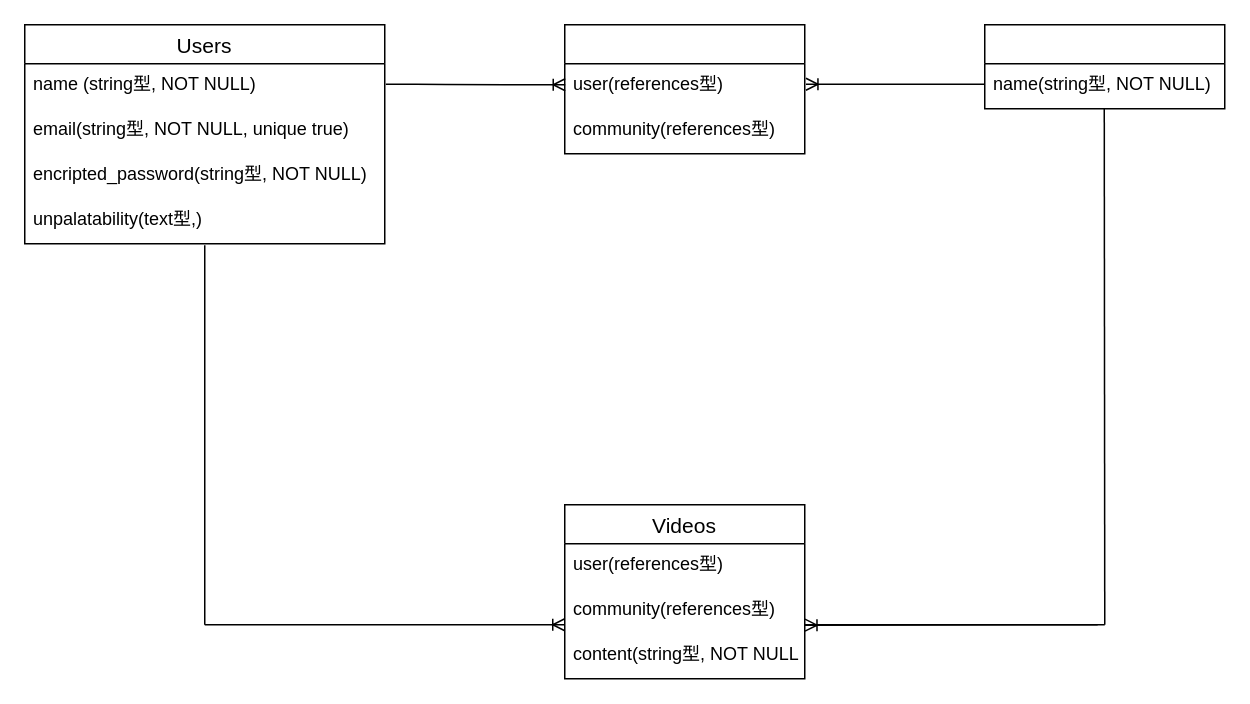
This 1250x704 diagram has some shape labels left out. Here are the shapes that lost their labels. From the top down, the box of each, then its label:
(983, 23, 1225, 109): Communities
(563, 23, 805, 154): Community_Users
